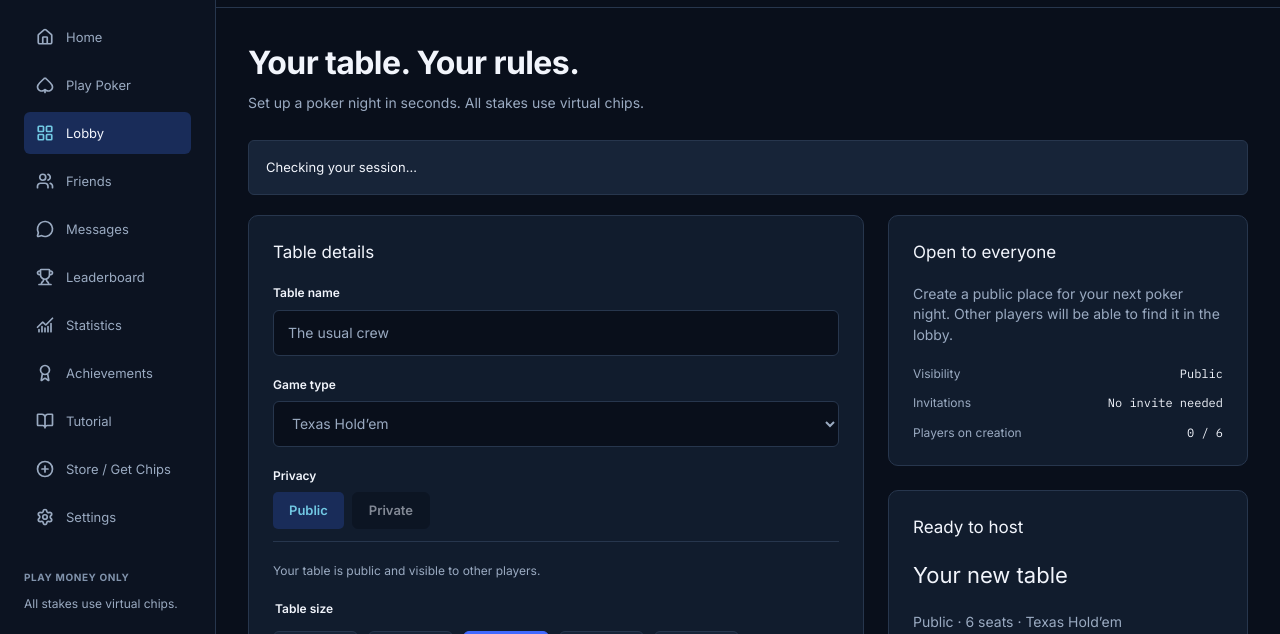
Scenario: creates a real-shaped public table request with CSRF and reads saved details
Type "Friday poker" into the field labelled "Table name" at (556, 333), box top-left (273, 310), bottom-right (839, 356)
(page scrolled)
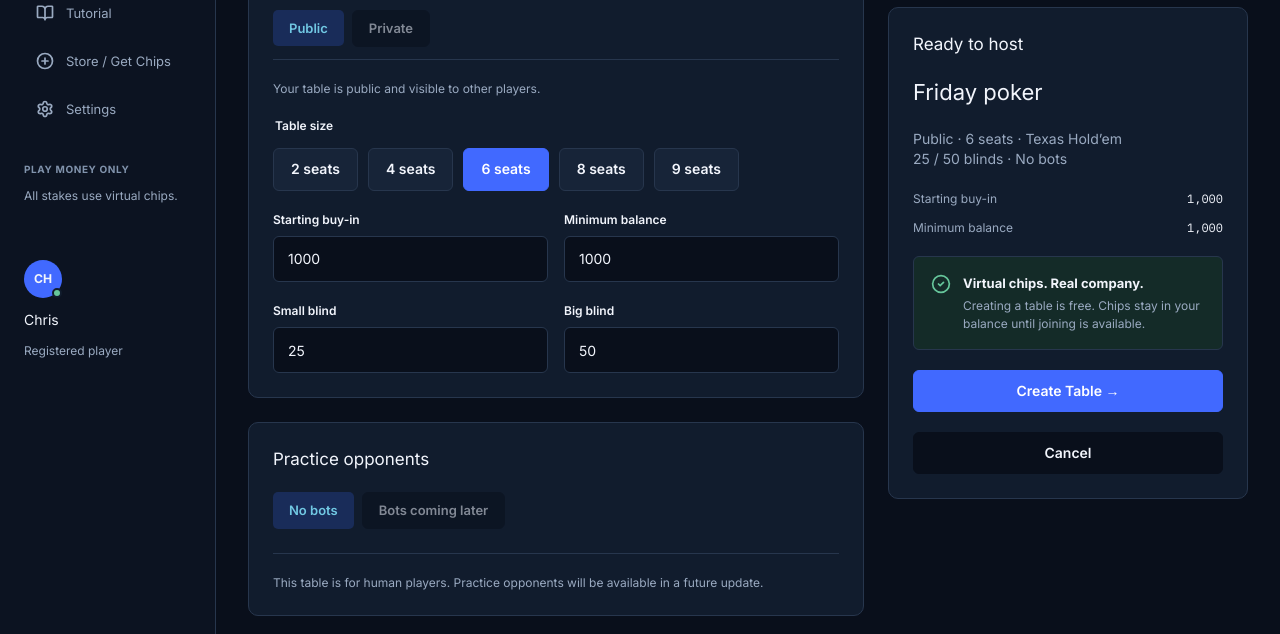
Now the button "Create Table →" is enabled
Click the button "Create Table →" at (1068, 391), box top-left (913, 370), bottom-right (1223, 412)
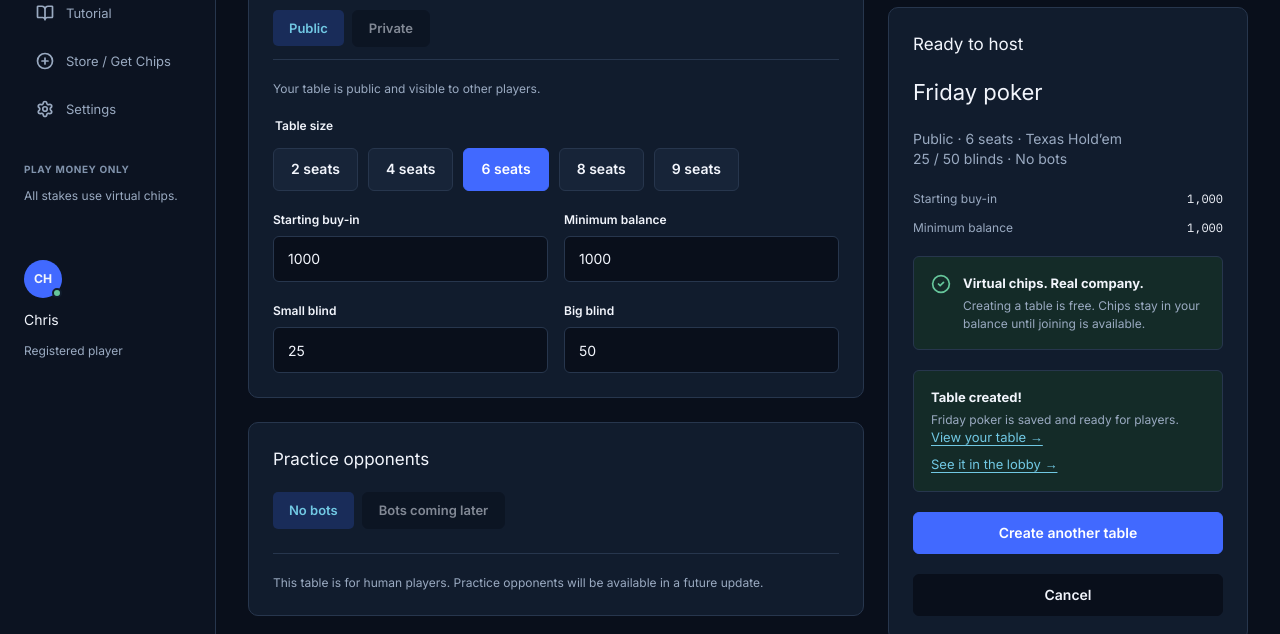
Now the text "Table created!" is shown, box top-left (931, 389), bottom-right (1022, 405)
Now the button "Create Table →" is gone
Click the link "View your table →" at (987, 437), box top-left (931, 429), bottom-right (1043, 445)
(page scrolled)
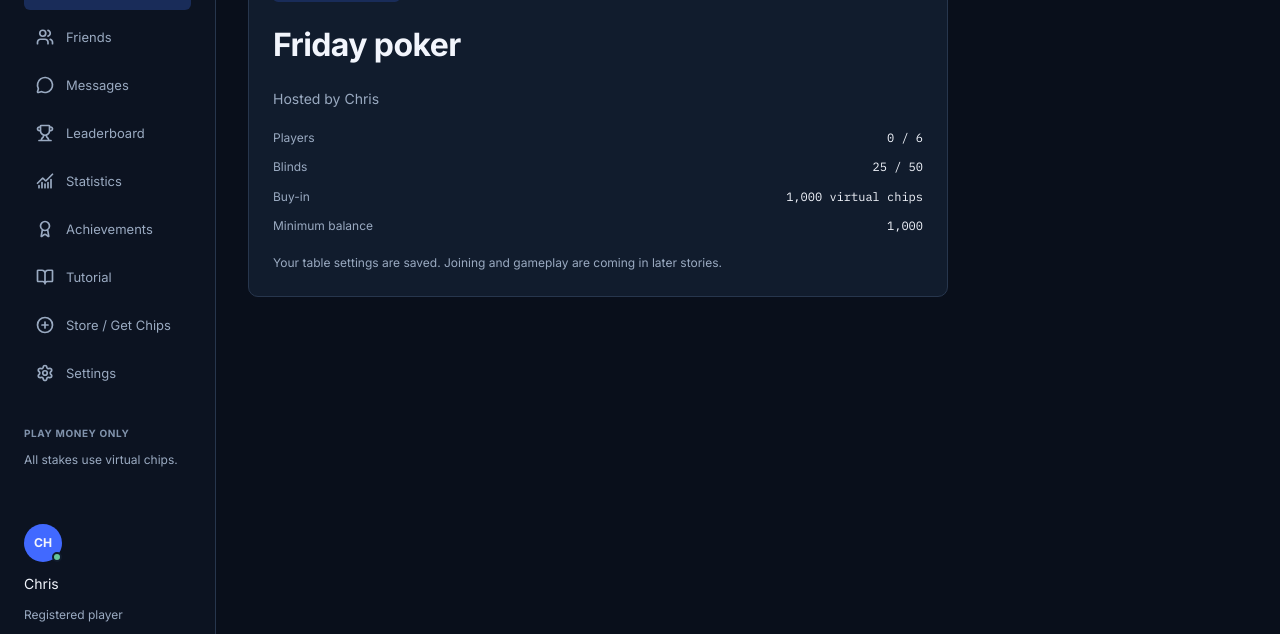
Expected: the text "0 / 6" is shown, top-left (887, 129), bottom-right (923, 146)
Now the text "Hosted by Chris" is shown, box top-left (273, 90), bottom-right (379, 106)
